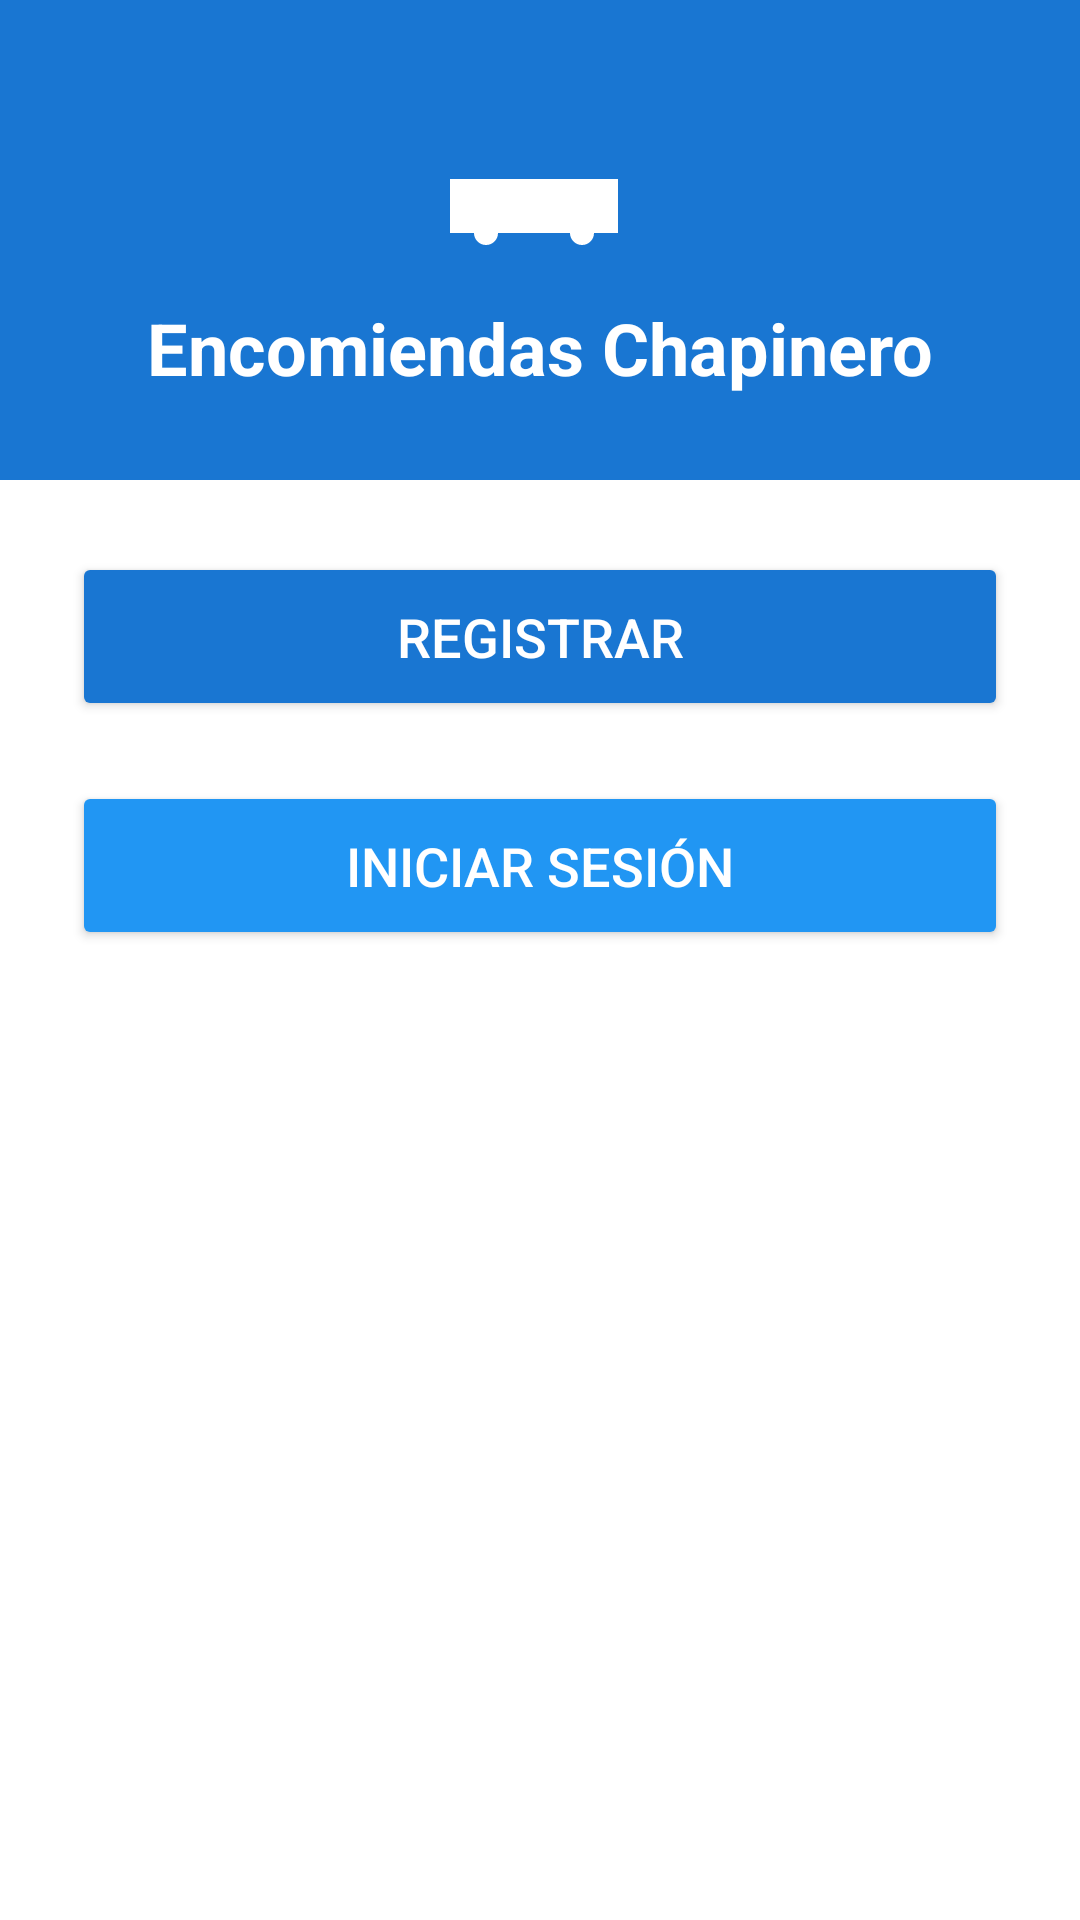

Named icons in this screenshot (1080w x 1920h) and their bounding boxes, {"left": x1, "top": y1, "right": x2, "bottom": y2}:
Camión: {"left": 450, "top": 179, "right": 618, "bottom": 245}
